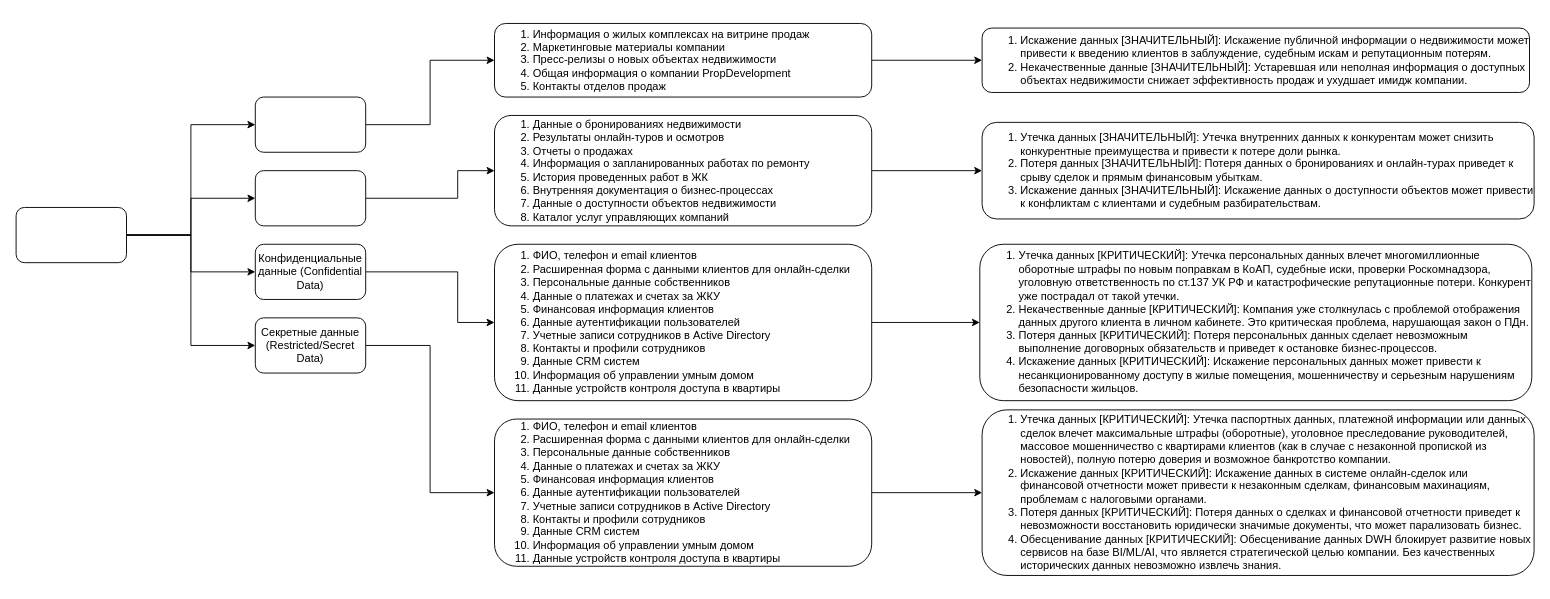
This 1550x599 diagram has some shape labels left out. The shapes that lost their labels are listed below. From the top down, each one's box as (x1, y1, x2, y2) in pixels, then its label:
(254, 96, 366, 152): Публичные данные (Public Data)
(254, 170, 366, 226): Внутренние данные (Internal Data)
(15, 207, 126, 263): Безопасность данных
